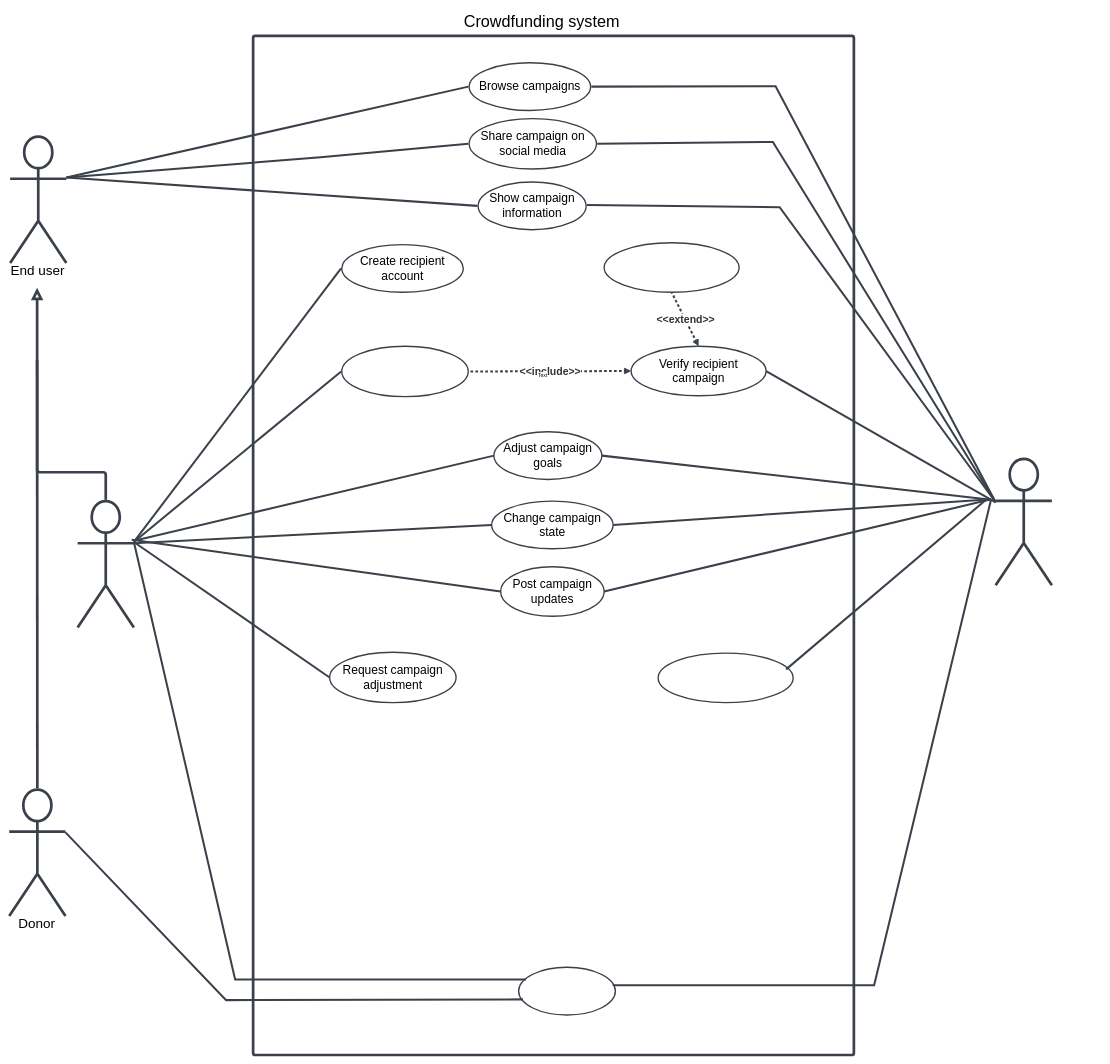
The diagram is 1110 pixels wide and 1064 high, and some of its shapes have lost their labels. The shapes that lost their labels are listed below. From the top down, each one's centre as x and y in pixels, then its label:
(x=671, y=267): Activate recipient campaign
(x=405, y=371): Apply for campaign creation
(x=105, y=564): Recipient
(x=1023, y=607): Platform administrator
(x=725, y=677): Manage recipient campaigns
(x=567, y=990): Donate to campaign
